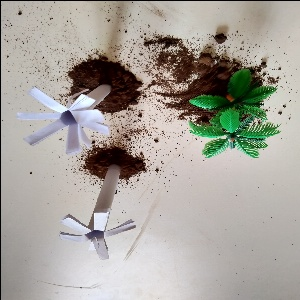plant: (181, 63, 281, 170)
weed: (58, 165, 142, 260), (15, 85, 124, 158)
